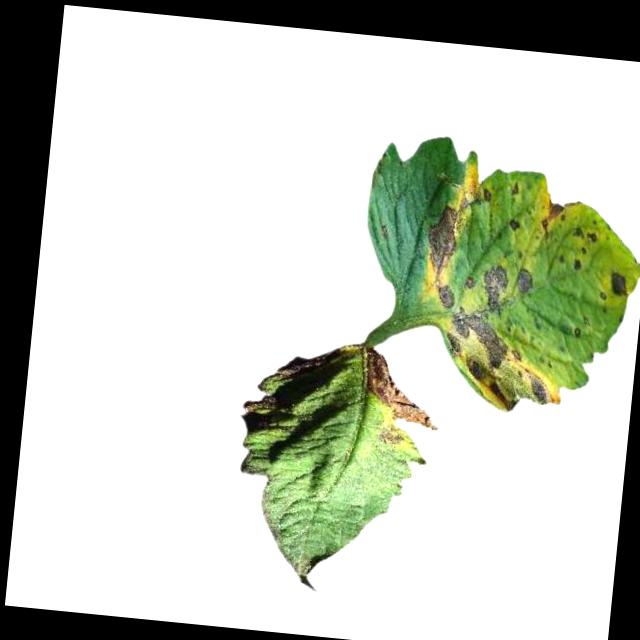Early_blight: (439, 307, 569, 417), (355, 348, 444, 431), (425, 201, 469, 277), (479, 260, 510, 312), (539, 200, 565, 241), (376, 425, 405, 450), (608, 269, 632, 299), (515, 267, 535, 296), (572, 226, 599, 247), (436, 284, 456, 311), (480, 188, 494, 204), (509, 218, 522, 235), (572, 256, 583, 273), (464, 277, 476, 289)
